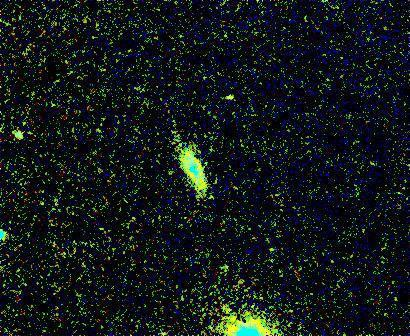star: (217, 82, 247, 112)
